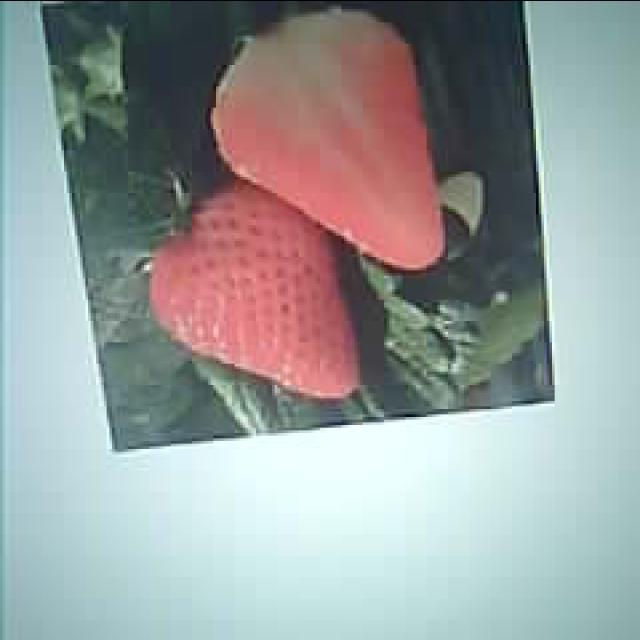strawberry: (147, 194, 360, 394)
